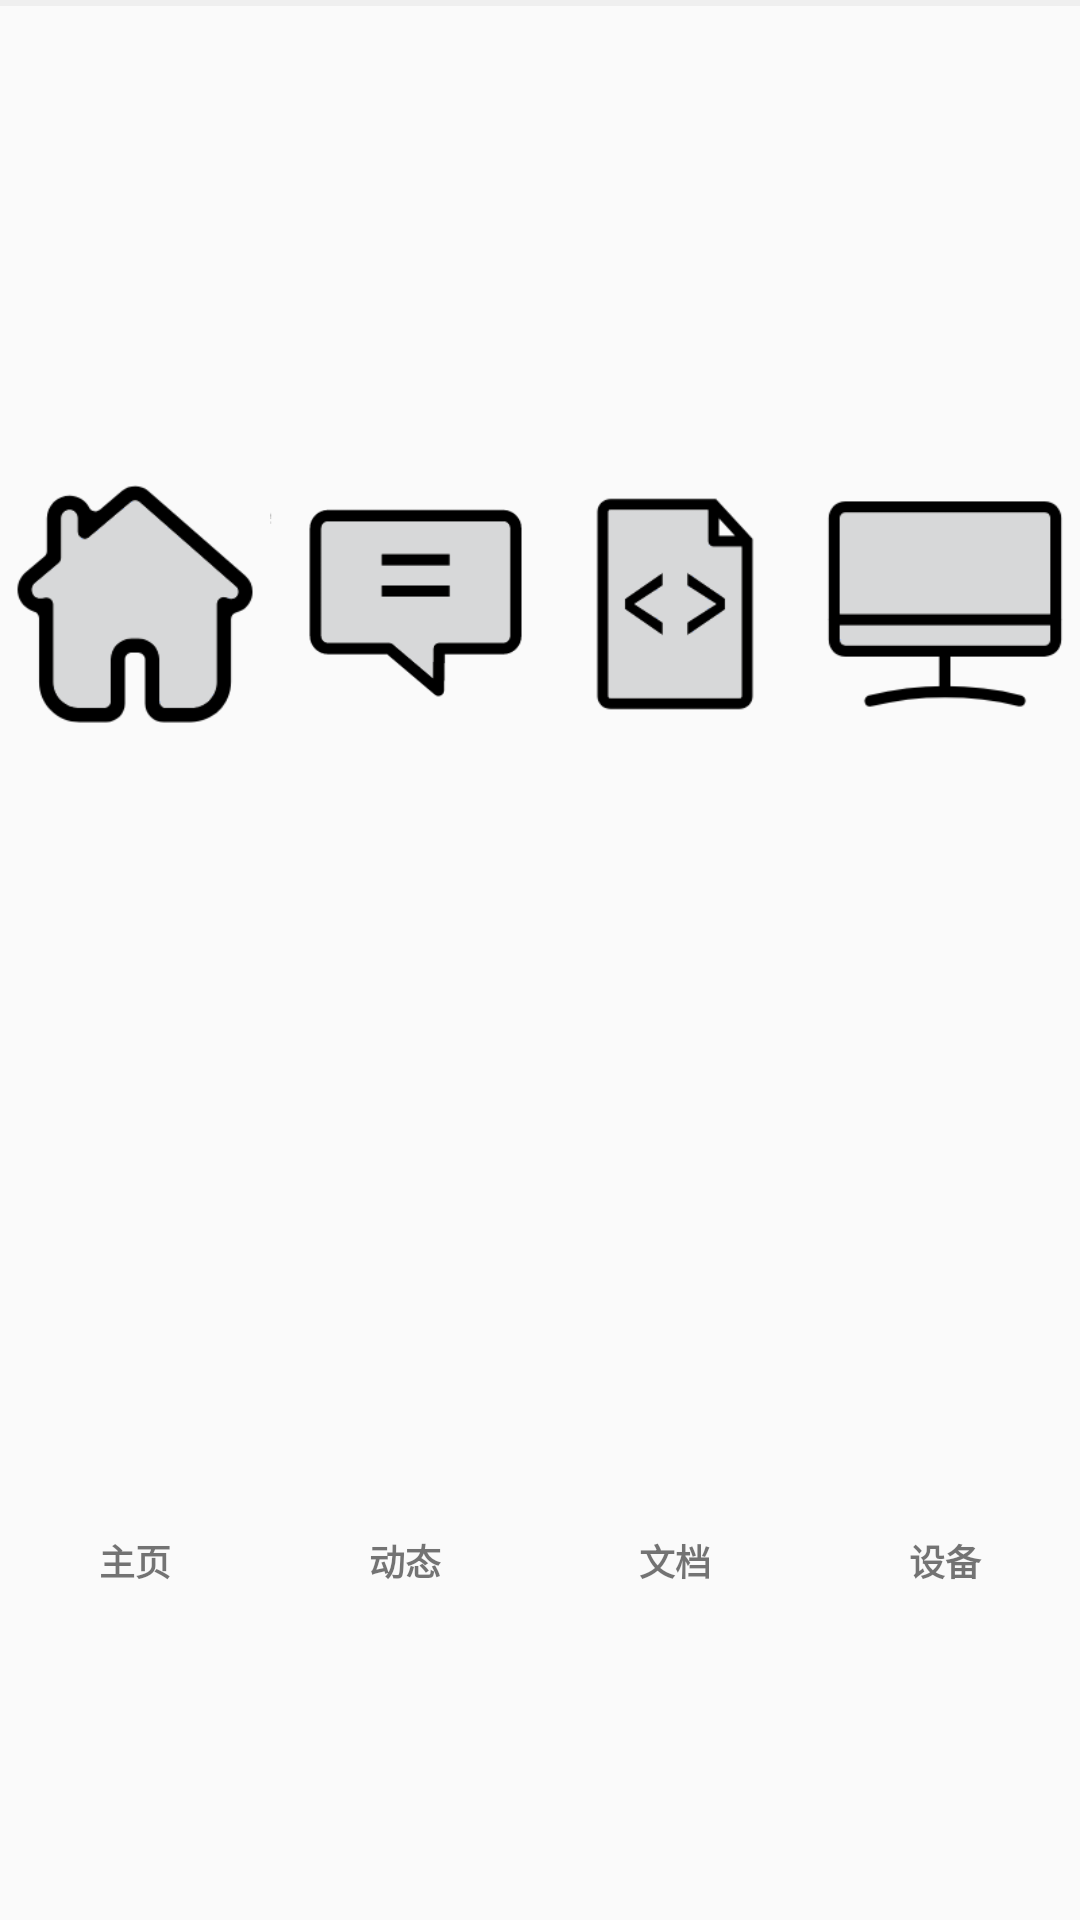

Screen size 1080px×1920px. Icon name, then its box in pixels as (x1, y1, x2, y2):
file: (596, 498, 754, 710)
home: (17, 485, 253, 723)
message: (270, 509, 522, 697)
